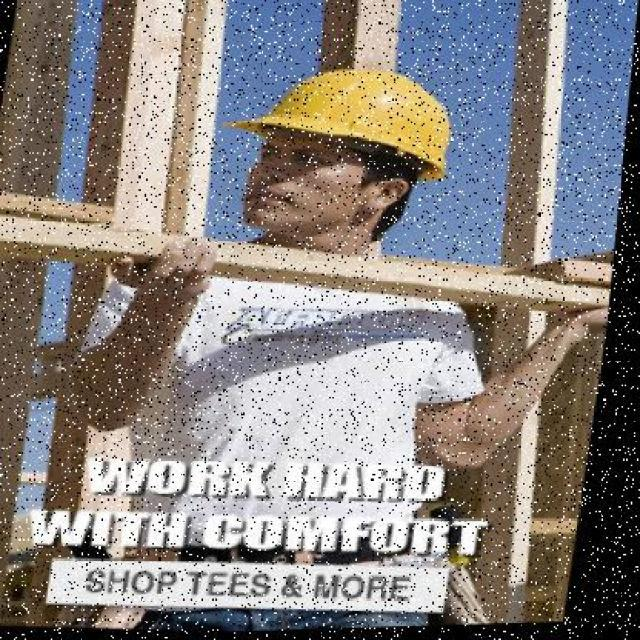helmet: (211, 52, 495, 190)
